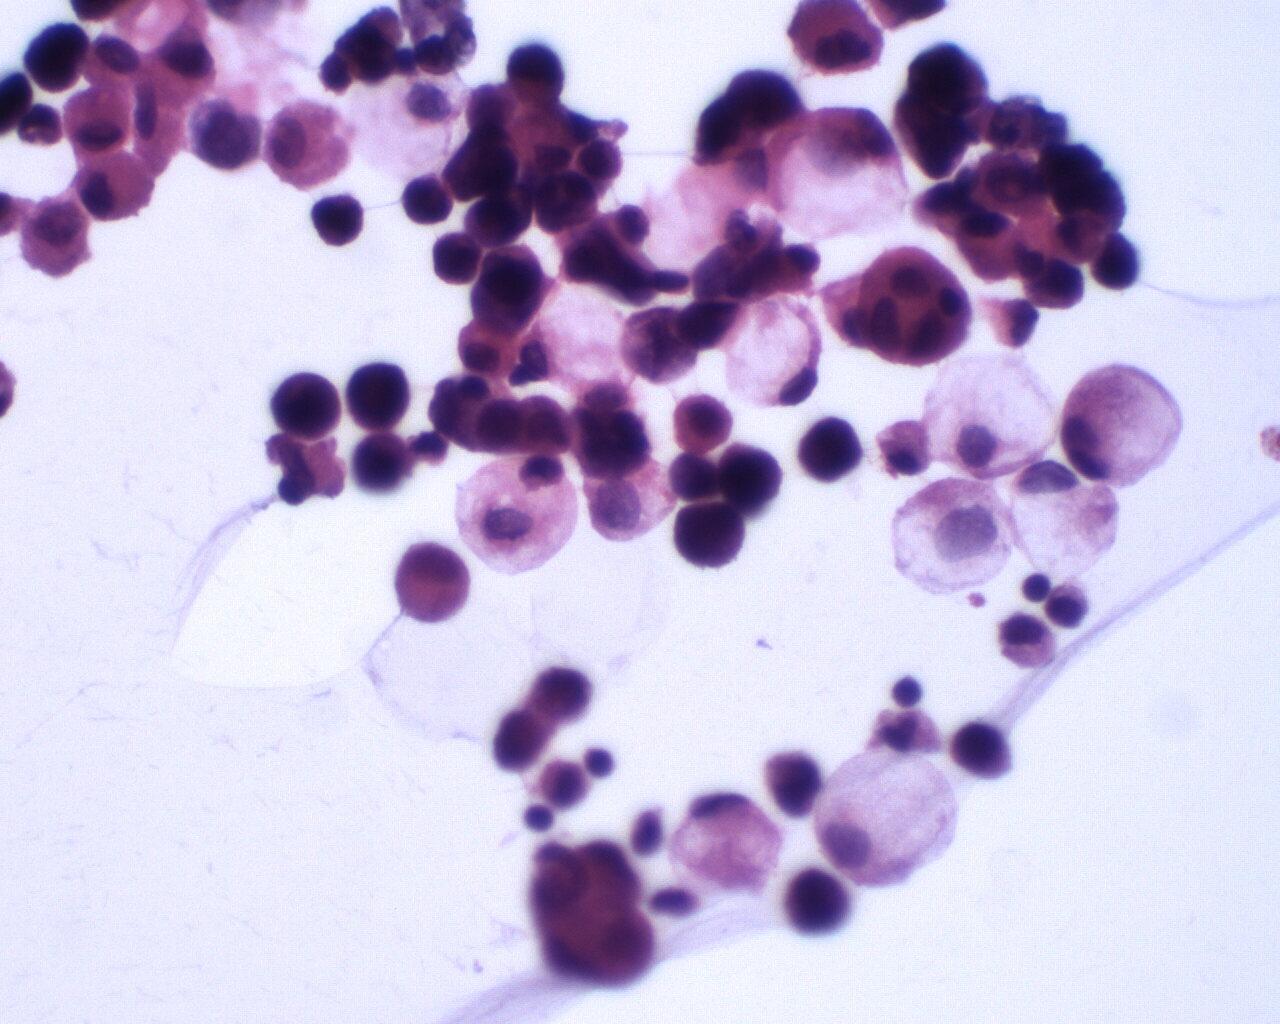ab: (860, 243, 969, 370), (15, 186, 96, 282), (270, 366, 346, 449), (668, 501, 748, 575), (18, 17, 89, 100), (336, 360, 417, 433), (711, 443, 784, 520), (945, 718, 1019, 783), (799, 415, 864, 487), (308, 186, 366, 255), (400, 169, 459, 229), (428, 228, 480, 288)
histo: (818, 746, 965, 892), (926, 348, 1064, 482), (1061, 357, 1189, 489), (455, 450, 581, 579), (1008, 453, 1128, 581), (669, 792, 788, 902), (721, 290, 823, 413)
lymph: (784, 865, 855, 942)
meso: (255, 98, 355, 193), (71, 147, 156, 225), (55, 80, 137, 157), (670, 389, 739, 459)
